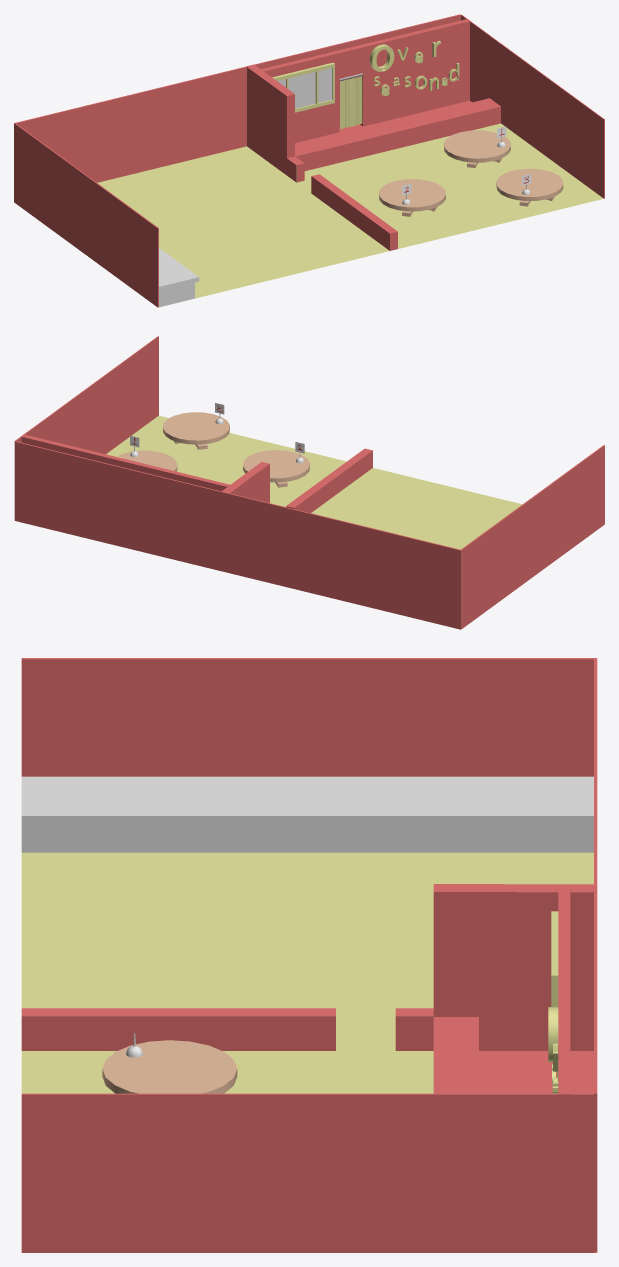
3 views of the same model, one above another, from view 1: azimuth 30°, elevation 25°; view 2: azimuth 150°, elevation 25°; view 3: azimuth 270°, elevation 25° (orthographic). The views are drawn at different scales.
Visible parts, largest first — view 1: pCube3, pCylinder3, pCylinder4, pCylinder5, typeMesh1, pPlane2; view 2: pCube3, pCylinder5, pCylinder4, pCylinder3; view 3: pCube3, pCylinder4, typeMesh1.
Part boxes in pixels (x1,y1,x2,y2): pCube3: (14, 14, 604, 307); pCylinder3: (444, 130, 510, 167); pCylinder4: (379, 179, 445, 216); pCylinder5: (496, 168, 563, 206); typeMesh1: (369, 40, 459, 95); pPlane2: (340, 76, 362, 129); pCube3: (14, 336, 604, 629); pCylinder5: (163, 412, 229, 449); pCylinder4: (243, 450, 309, 487); pCylinder3: (117, 450, 177, 471); pCube3: (21, 658, 597, 1252); pCylinder4: (102, 1040, 237, 1093); typeMesh1: (548, 1007, 558, 1093).
Bounding box in the file's own units: 11025 × 1872 × 6147.
7 materials, 1 textured.
